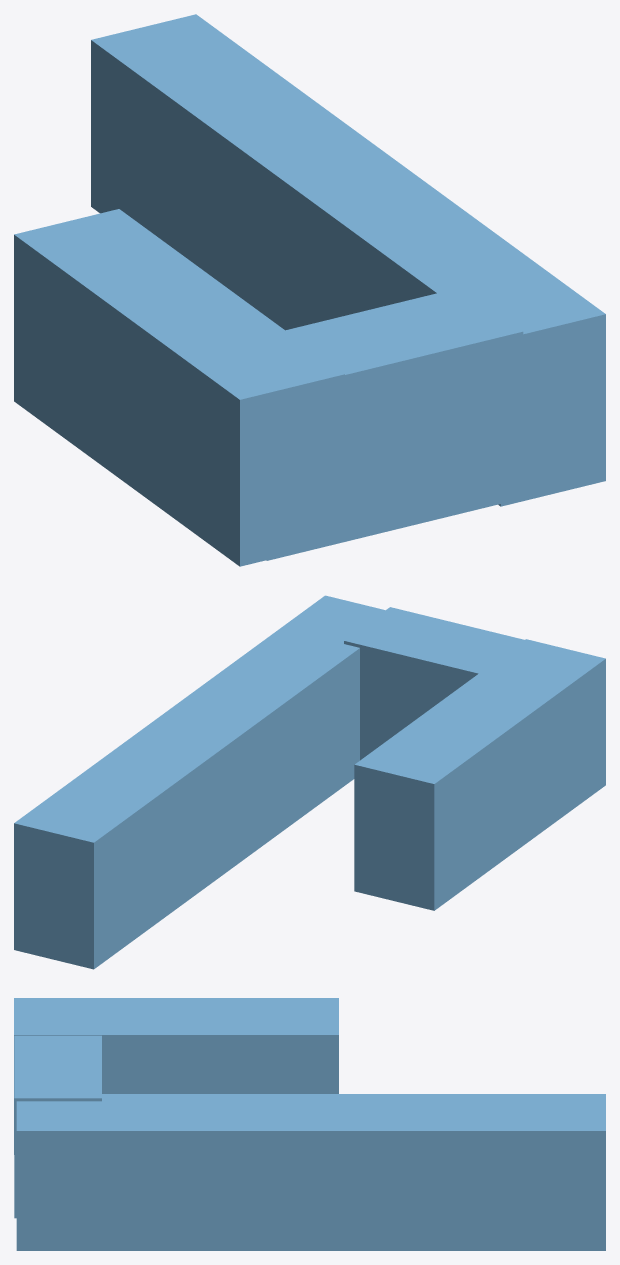
Rendered from 1gou.gltf.
3 renders of one model, top to bottom at view 1: azimuth 30°, elevation 25°; view 2: azimuth 150°, elevation 25°; view 3: azimuth 270°, elevation 25°, orthographic. The views are drawn at different scales.
Parts seen in each view (by area): view 1: Cube.002, Cube.001, Cube.004; view 2: Cube.002, Cube.001, Cube.004; view 3: Cube.002, Cube.001, Cube.004.
Boxes of the visible parts, box(x1,y1,x2,y2) form: Cube.002: box(91, 14, 605, 506); Cube.001: box(14, 209, 344, 566); Cube.004: box(266, 287, 523, 560); Cube.002: box(14, 595, 385, 969); Cube.001: box(354, 639, 605, 910); Cube.004: box(344, 607, 524, 760); Cube.002: box(16, 1094, 605, 1250); Cube.001: box(14, 998, 338, 1154); Cube.004: box(14, 1035, 101, 1218).
Bounding box in the file's own units: 19.75 × 8.83 × 38.27.
